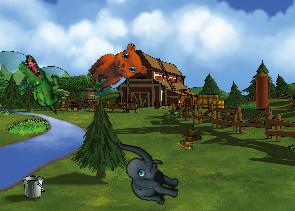bear: (82, 36, 152, 104)
crocodile: (6, 52, 75, 116)
elephant: (107, 139, 186, 207)
